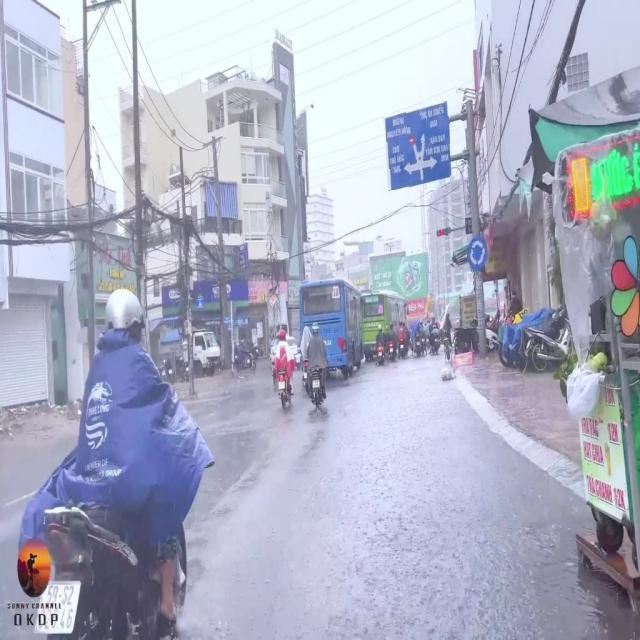303-noi-giao-nhau-chay-theo-vong-xuyen: (466, 238, 488, 270)
